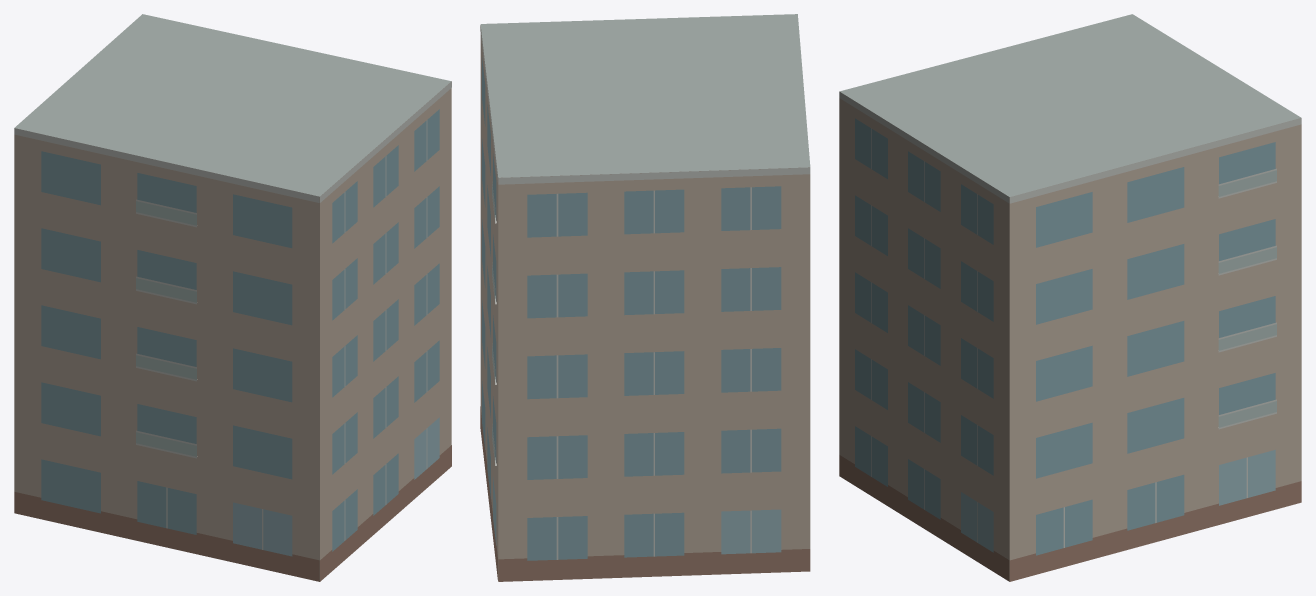
Rendered from survey-upis-32887534.glb.
3 views of the same model, side by side, from view 1: azimuth 30°, elevation 25°; view 2: azimuth 150°, elevation 25°; view 3: azimuth 270°, elevation 25° (orthographic). The views are drawn at different scales.
Parts seen in each view (by area): view 1: survey-upis-32887534.tmp; view 2: survey-upis-32887534.tmp; view 3: survey-upis-32887534.tmp.
Part boxes in pixels (left/top/right/bottom): survey-upis-32887534.tmp: left=14, top=14, right=451, bottom=581; survey-upis-32887534.tmp: left=480, top=14, right=810, bottom=581; survey-upis-32887534.tmp: left=839, top=14, right=1301, bottom=581.
Size of the model in its own units: 14.72 by 14.4 by 15.69.
